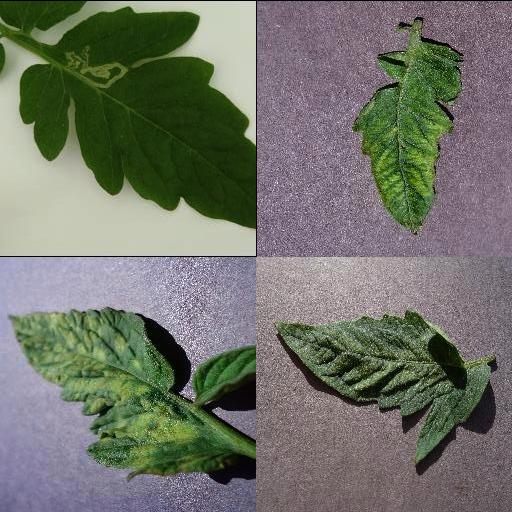Leaf Miner: (16, 6, 256, 229)
Leaf Mold: (8, 307, 230, 477)
Mosaic Virus: (351, 38, 463, 236)
Spider Mites: (271, 308, 491, 464)
